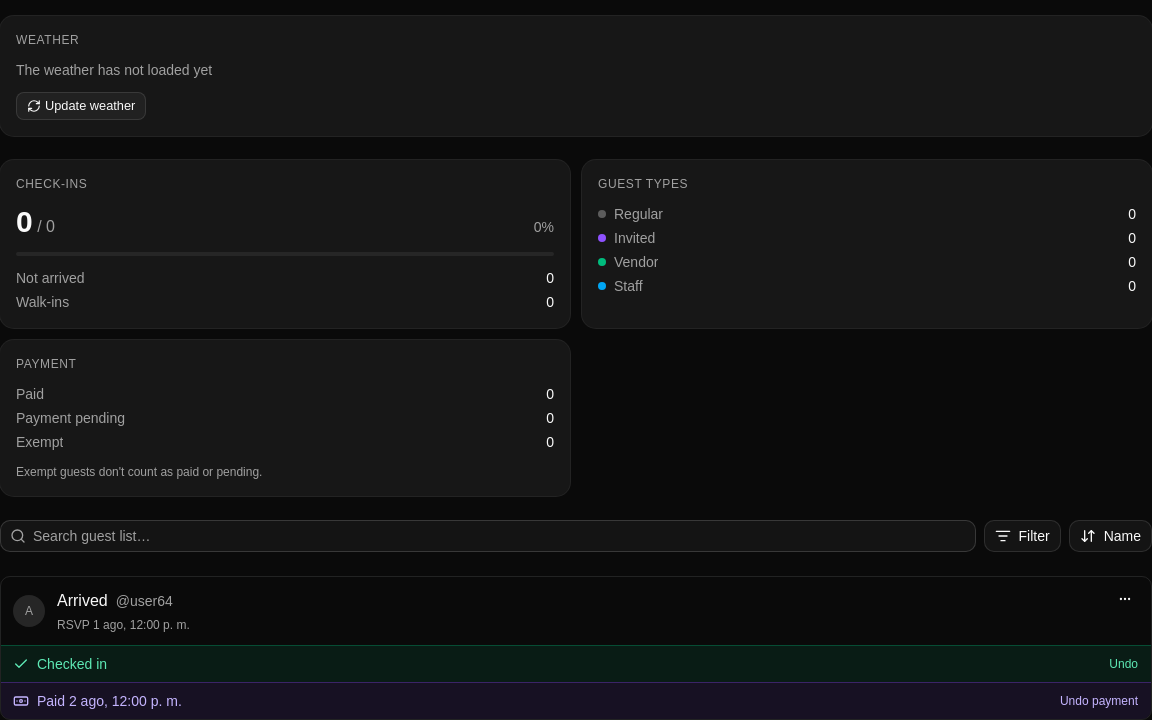
Test case: MeetupDetailPage on phones › opens the undo dialog from the check-in line
This screenshot has width=1152, height=720.
(page scrolled)
Click the button "Undo".
click(1124, 664)  # box [1108,654,1139,672]
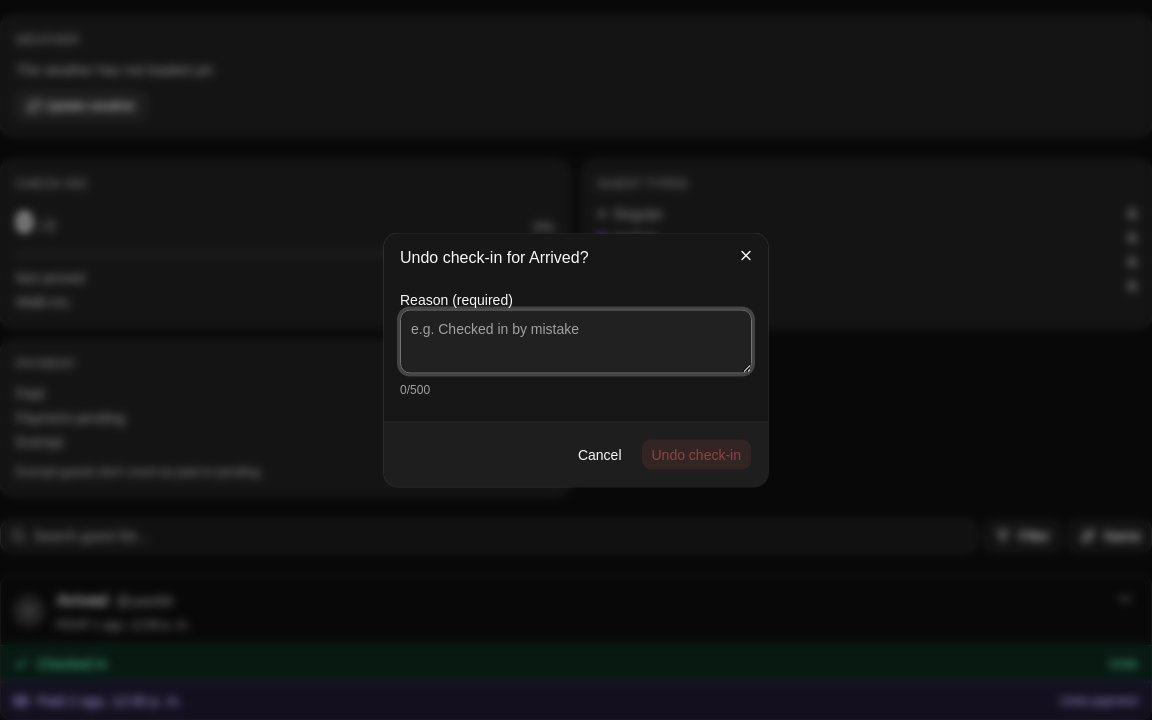
Expected: the dialog "Undo check-in for Arrived?" is shown, [384,234,768,486]
